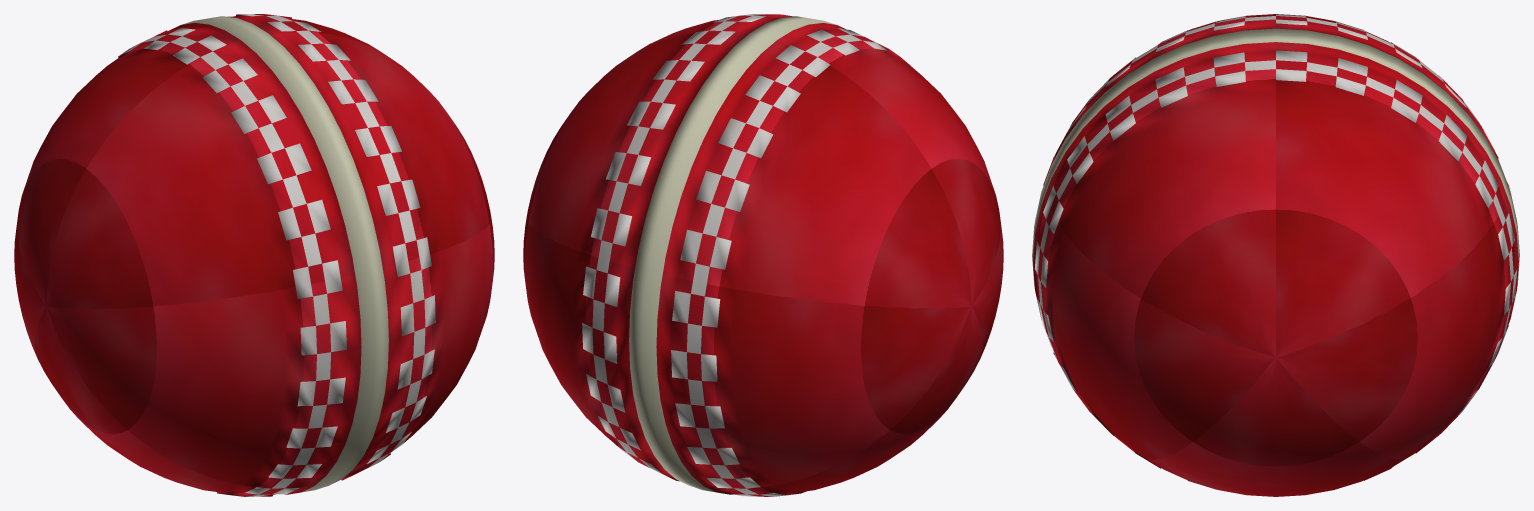
Rendered from cricket_ball_new.fbx.
3 renders of one model, left to right at view 1: azimuth 30°, elevation 25°; view 2: azimuth 150°, elevation 25°; view 3: azimuth 270°, elevation 25°, orthographic.
Visible parts, largest first — view 1: ball_new; view 2: ball_new; view 3: ball_new.
Part boxes in pixels (x1=…): ball_new: x1=14, y1=14, x2=494, y2=496; ball_new: x1=523, y1=14, x2=1003, y2=496; ball_new: x1=1032, y1=14, x2=1519, y2=496.
Size of the model in its own units: 7.2 by 7.27 by 7.27.
